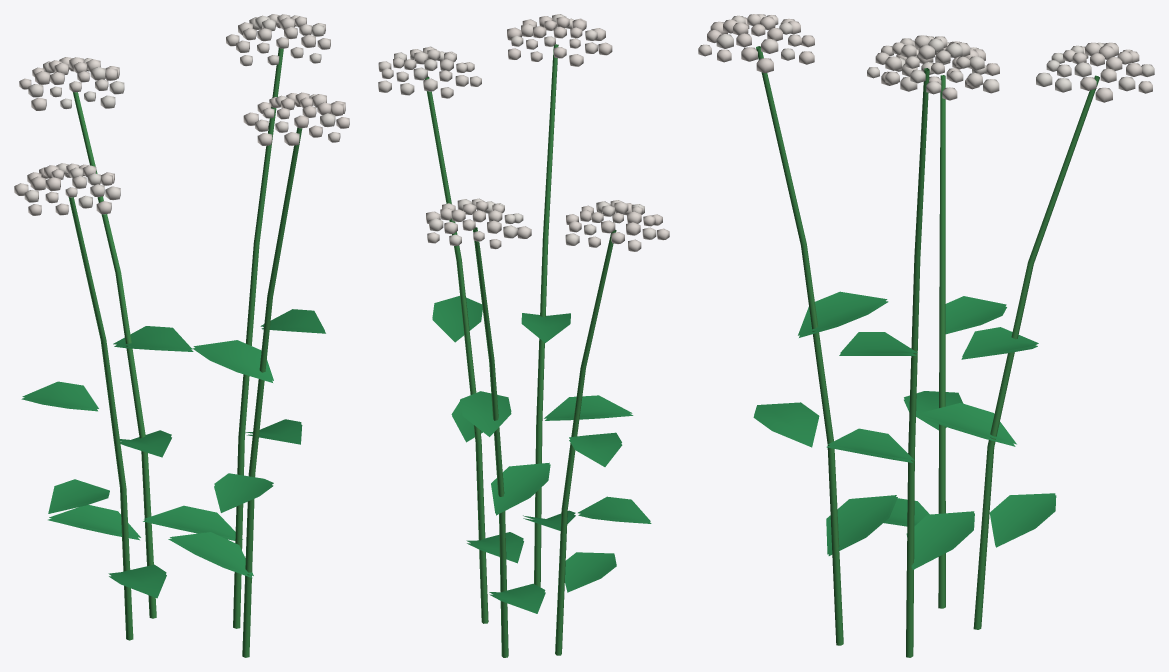
Rendered from ing_meadowsweet.gltf.
The picture shows the model from 3 angles, left to right: view 1: azimuth 30°, elevation 25°; view 2: azimuth 150°, elevation 25°; view 3: azimuth 270°, elevation 25°; orthographic projection. The views are drawn at different scales.
Visible parts, largest first — view 1: ing_meadowsweet; view 2: ing_meadowsweet; view 3: ing_meadowsweet.
Boxes of the visible parts, x1,y1,x2,y2 form: ing_meadowsweet: (14,14,349,657); ing_meadowsweet: (378,14,669,657); ing_meadowsweet: (698,14,1154,657).
Size of what is drawn, in the model's own units: 0.3607 by 0.6792 by 0.4367.
